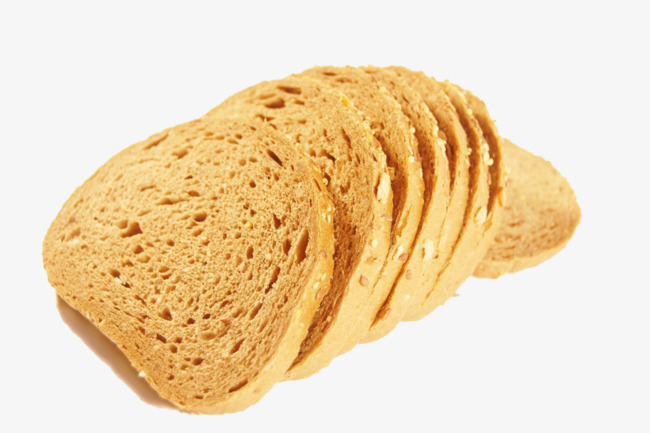slice of bread: (203, 60, 581, 335), (33, 116, 343, 408)
